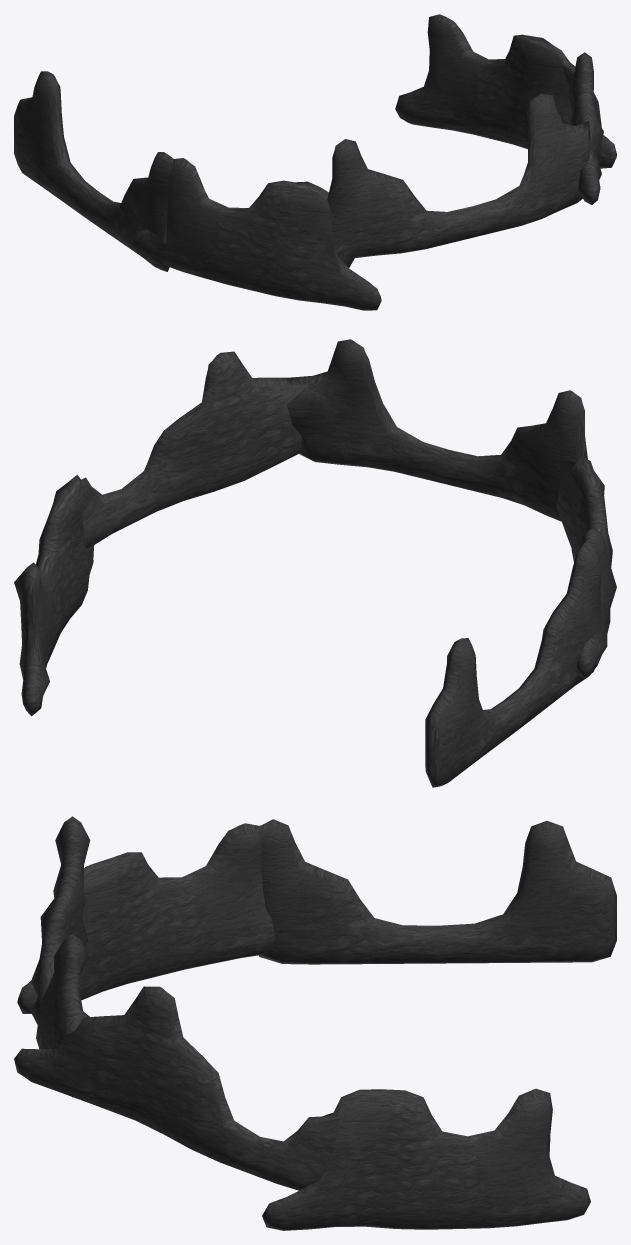
File: CircleRuinShape.dae
3 views of the same model, one above another, from view 1: azimuth 30°, elevation 25°; view 2: azimuth 150°, elevation 25°; view 3: azimuth 270°, elevation 25° (orthographic). The views are drawn at different scales.
Visible parts, largest first — view 1: CircleRuin; view 2: CircleRuin; view 3: CircleRuin.
Part boxes in pixels (left/top/right/bottom): CircleRuin: left=14, top=14, right=616, bottom=310; CircleRuin: left=14, top=339, right=616, bottom=787; CircleRuin: left=14, top=816, right=616, bottom=1230.
Bounding box in the file's own units: 38.95 × 16.05 × 35.99.
